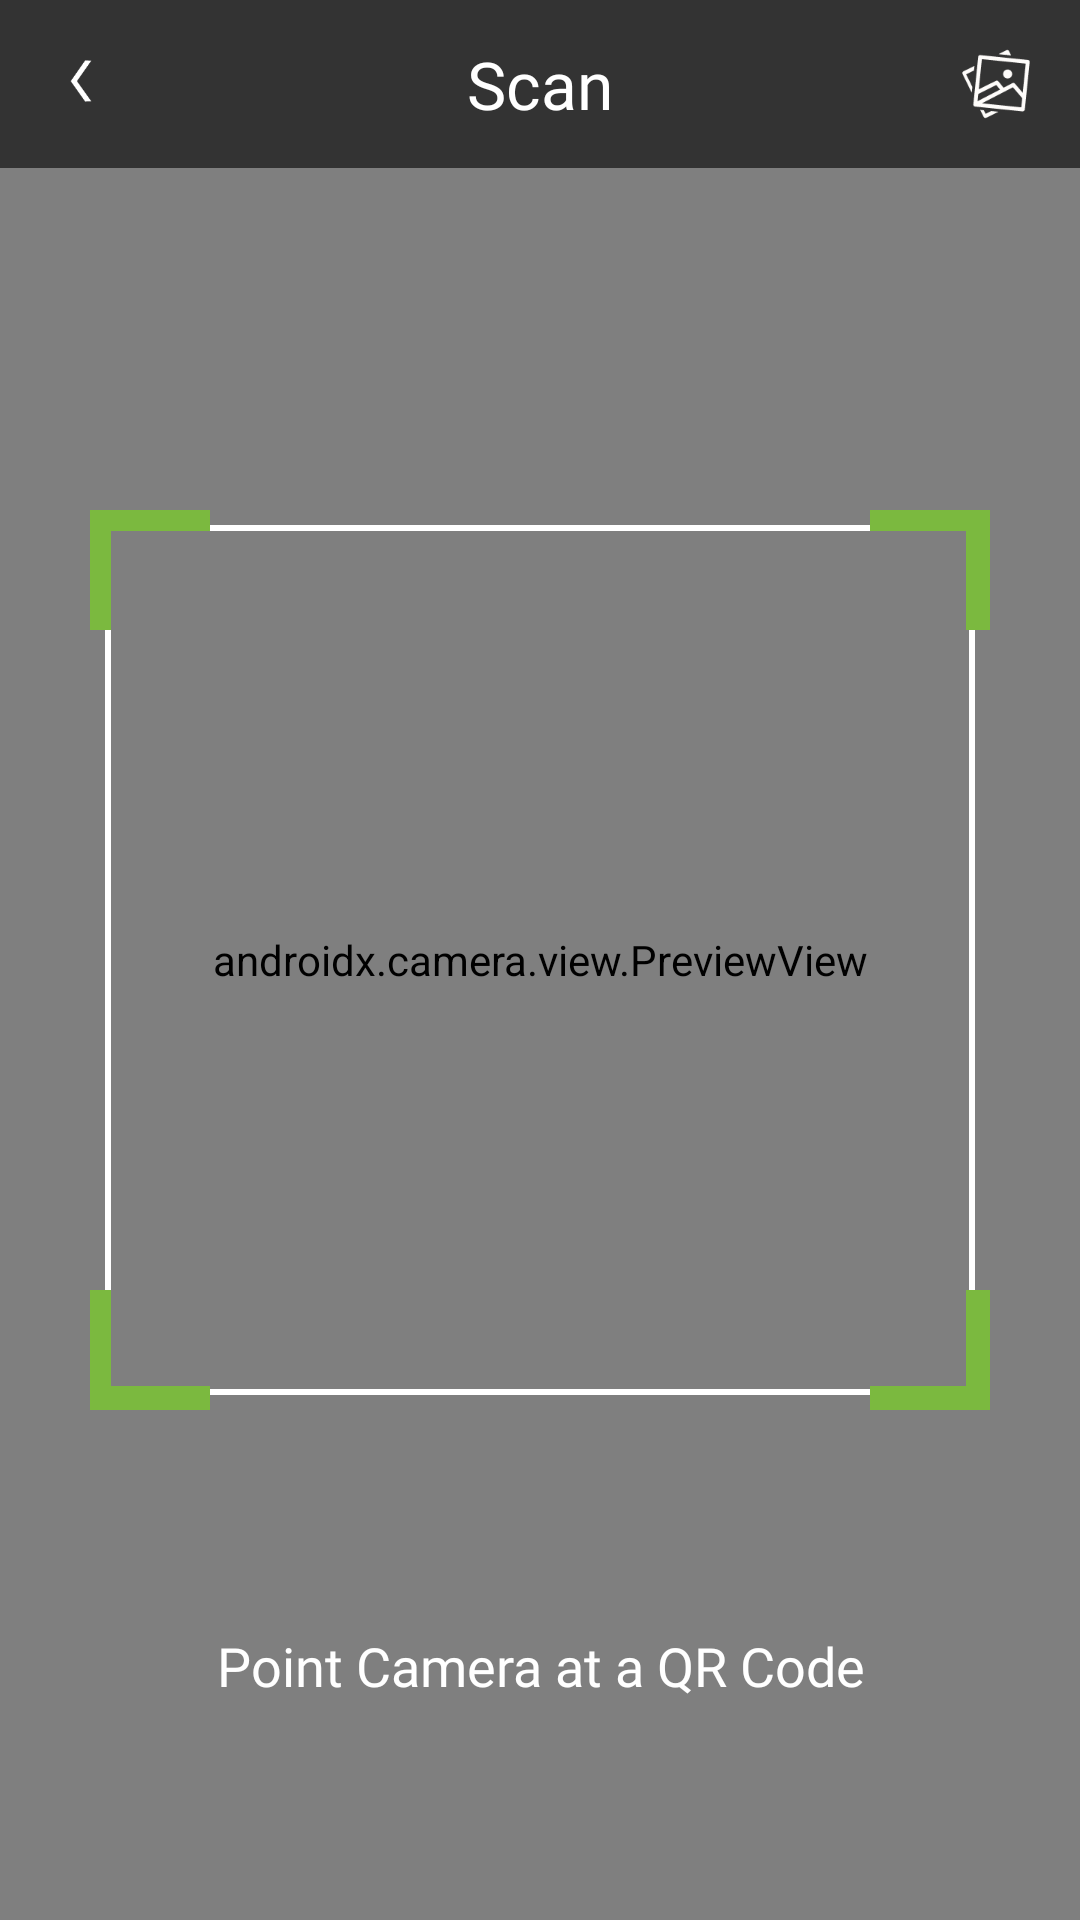

Screen size 1080px×1920px. Icon name, then its box in pixels as detection(x1, y1, x2, y2):
guest back: detection(71, 60, 91, 102)
guest photoalbum: detection(962, 49, 1030, 118)
